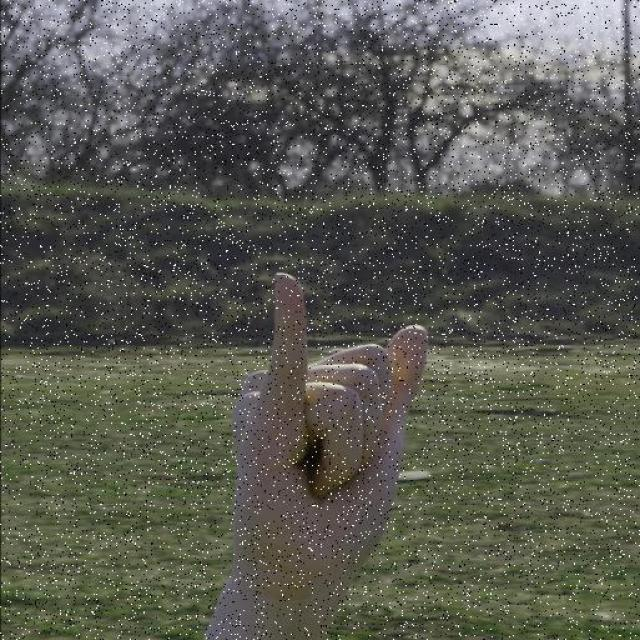Y: (226, 269, 433, 610)
